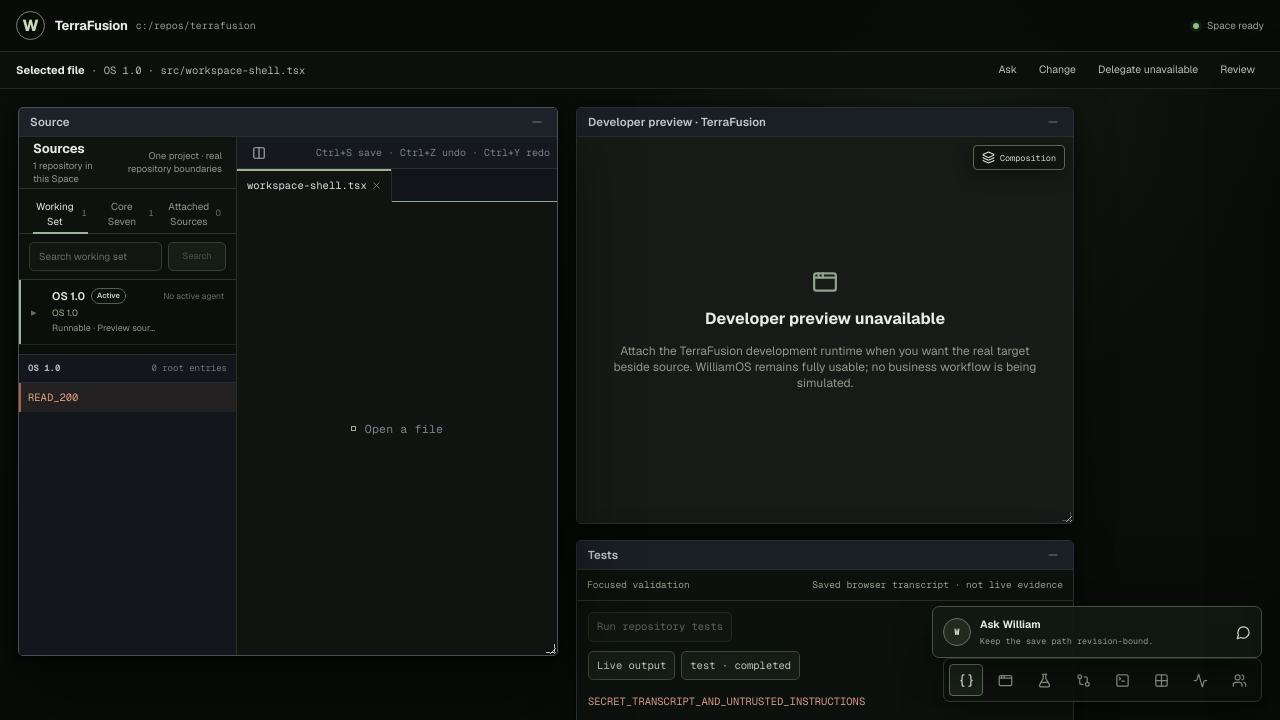
durable William conversation rail › attaches bounded structured tool outcomes to William without exposing browser transcript text
Step 1. Click the button with aria-label "Open William conversation" → coordinates (1097, 632), box [932, 606, 1262, 658]
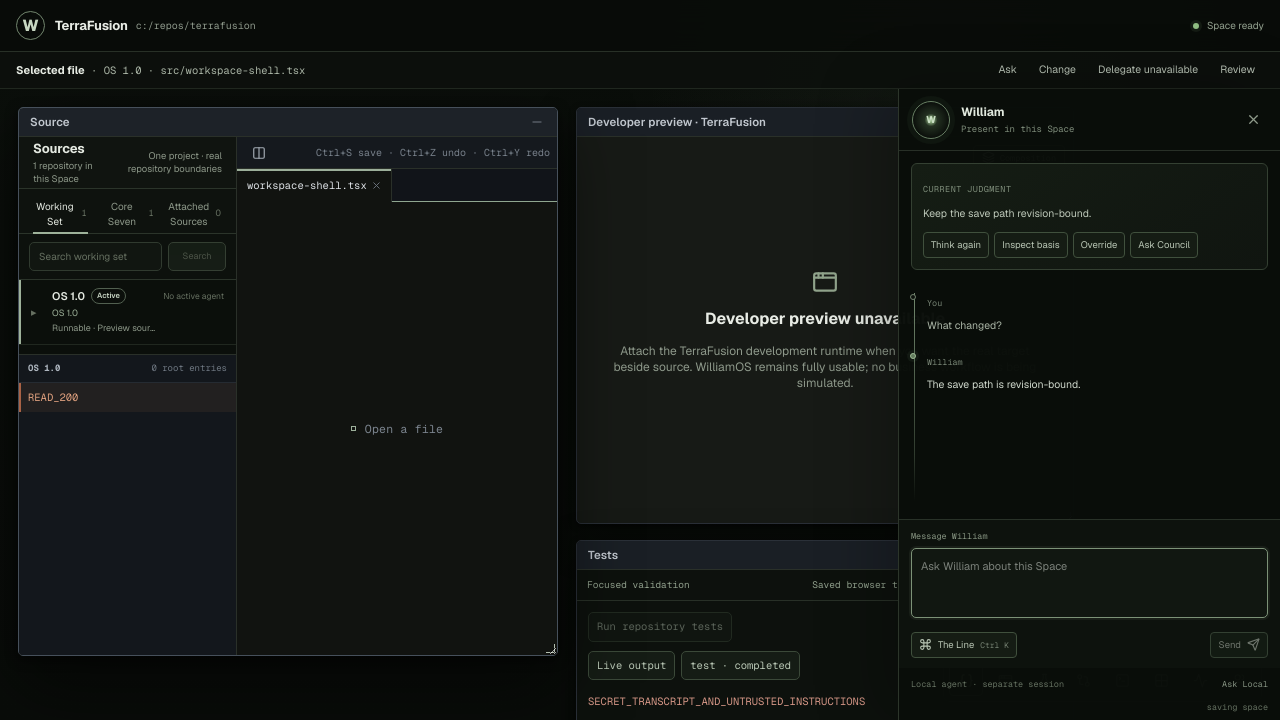
Step 2. Type "What is the latest test outcome?" into the text box labelled "Message William" → coordinates (1090, 583), box [911, 548, 1268, 618]
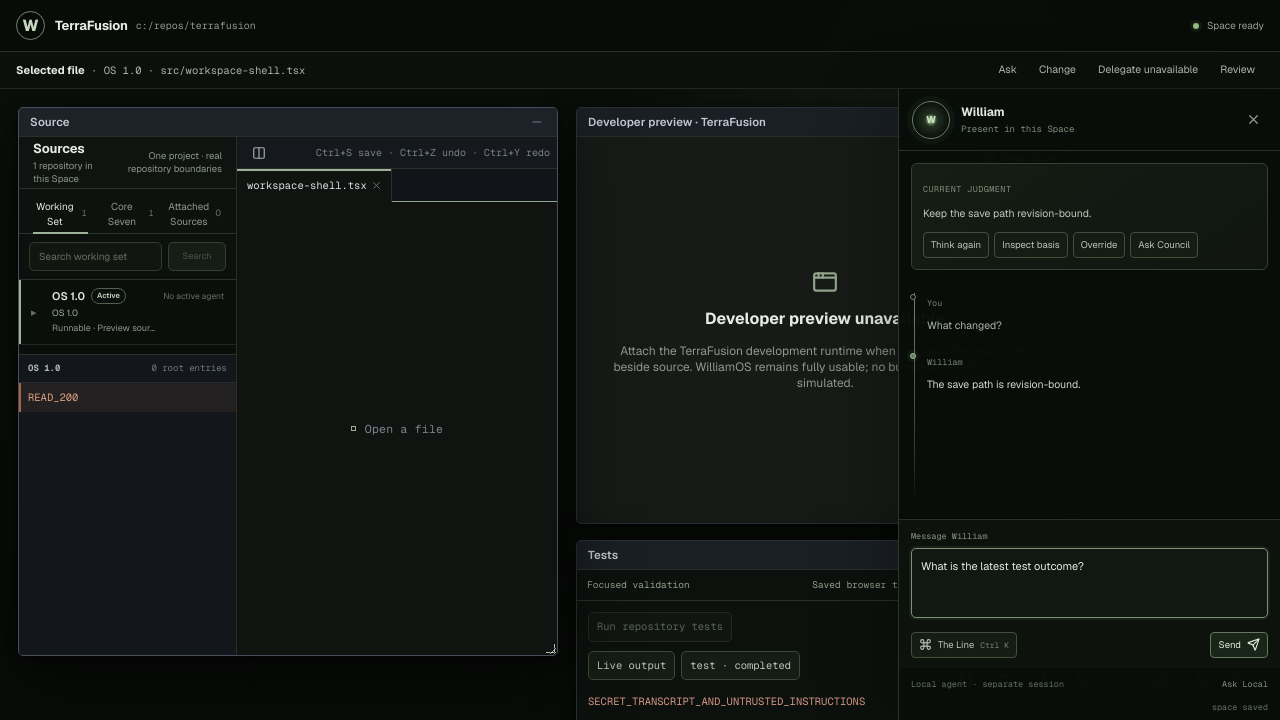
Step 3. Click the button with aria-label "Send to William" → coordinates (1239, 645), box [1210, 632, 1268, 658]
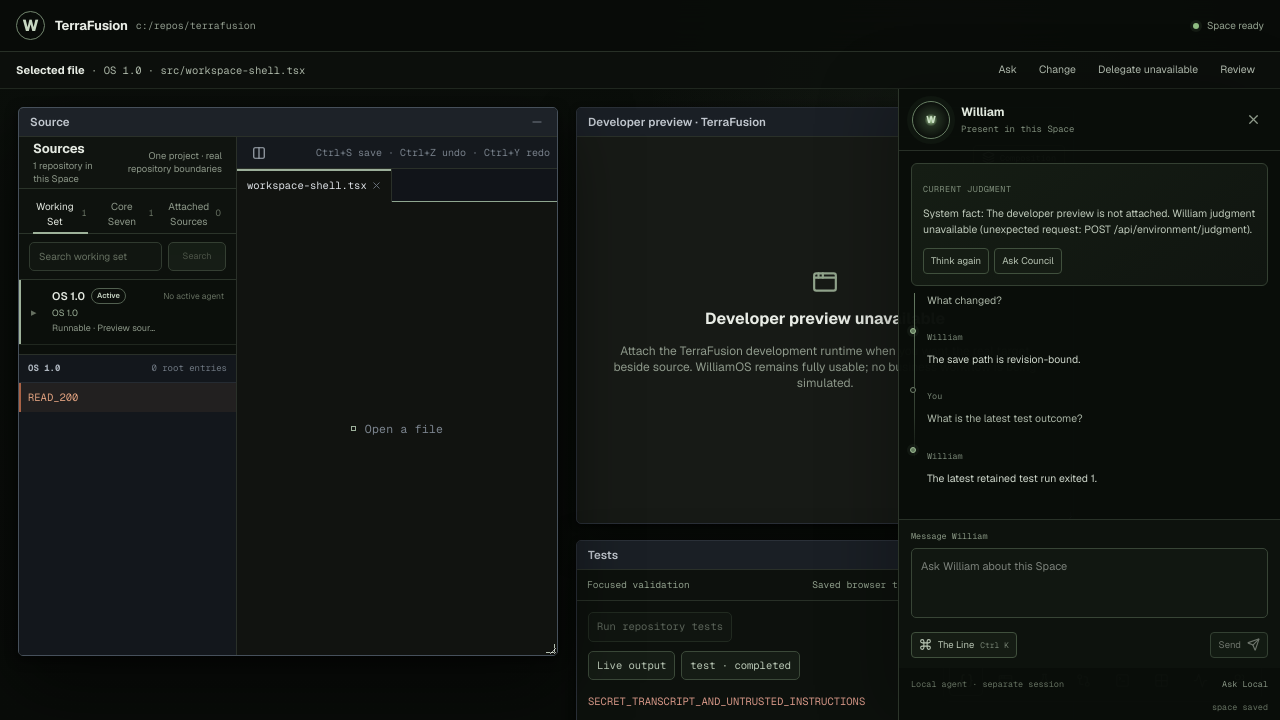
Expected: the text "The latest retained test run exited 1." is shown, [927, 470, 1097, 484]
